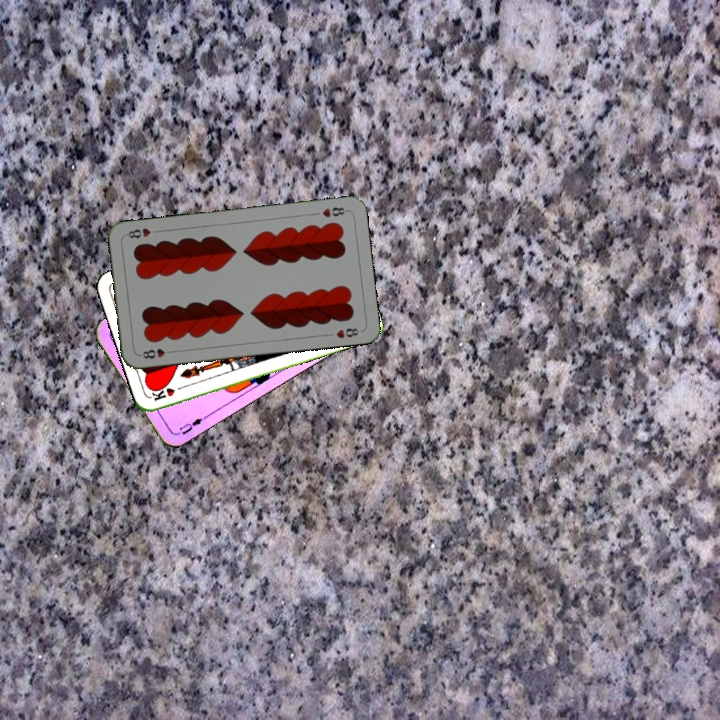EU: (171, 412, 208, 438)
H8: (136, 345, 176, 361), (318, 203, 350, 220)
HK: (147, 381, 188, 404)
